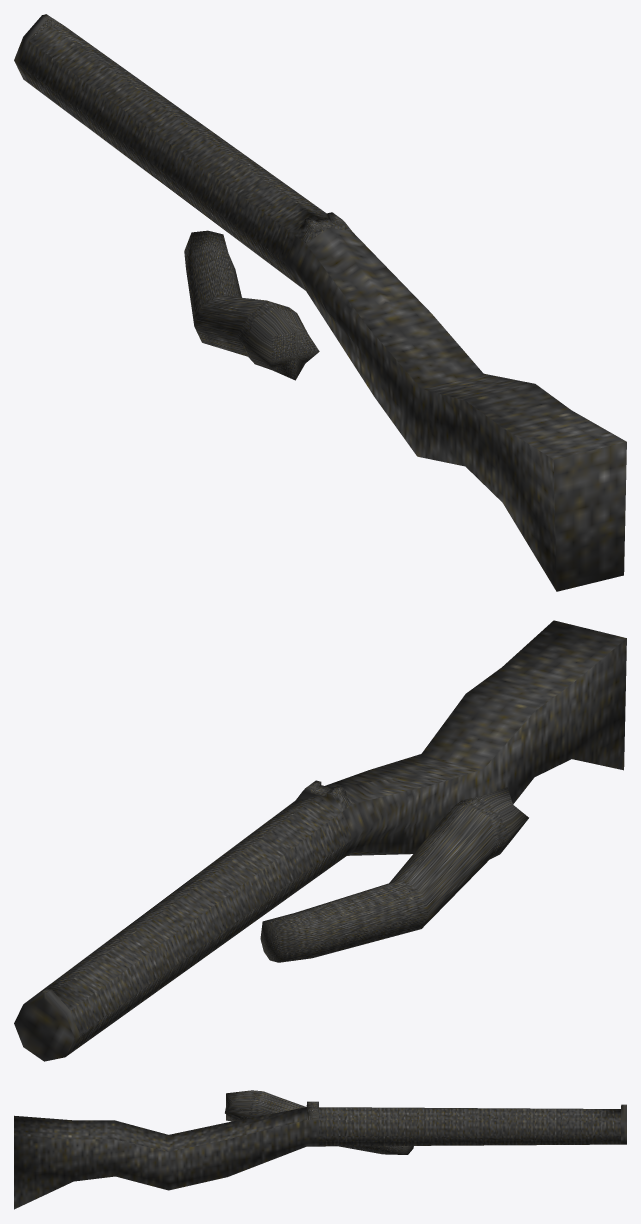
File: gun.obj
3 renders of one model, top to bottom at view 1: azimuth 30°, elevation 25°; view 2: azimuth 150°, elevation 25°; view 3: azimuth 270°, elevation 25°, orthographic. The views are drawn at different scales.
Visible parts, largest first — view 1: Cube; view 2: Cube; view 3: Cube.
Part boxes in pixels (left/top/right/bottom): Cube: left=14, top=14, right=626, bottom=591; Cube: left=14, top=620, right=626, bottom=1061; Cube: left=14, top=1090, right=626, bottom=1209.
Bounding box in the file's own units: 0.2063 × 0.1981 × 1.16.
1 material, 1 textured.
